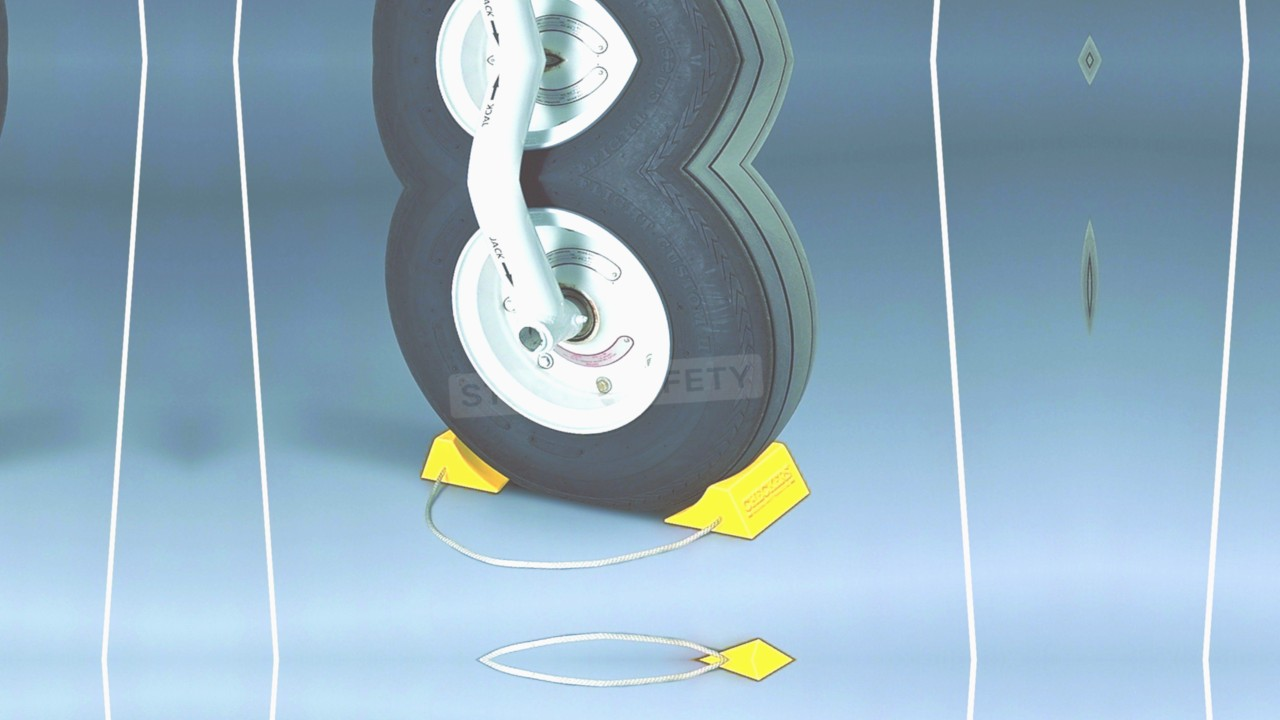chock: (658, 438, 816, 547), (417, 423, 511, 499)
wheel: (375, 160, 833, 530), (351, 60, 809, 189), (351, 0, 809, 60)
